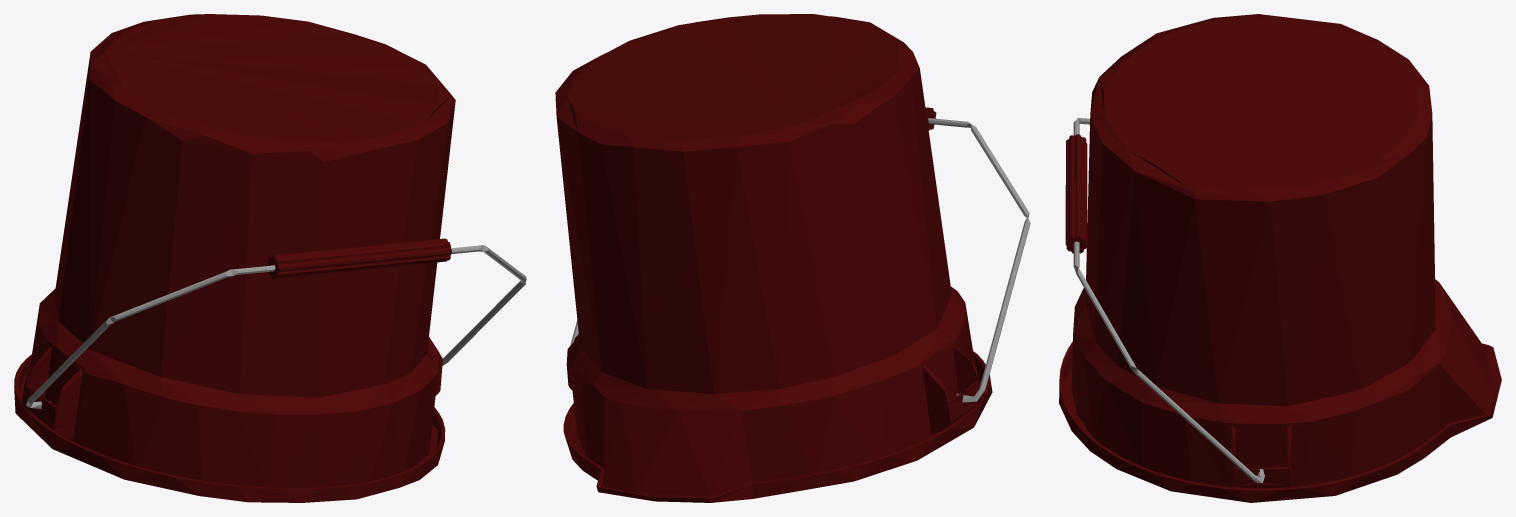
The model's file is bucket.glb.
The picture shows the model from 3 angles, left to right: view 1: azimuth 30°, elevation 25°; view 2: azimuth 150°, elevation 25°; view 3: azimuth 270°, elevation 25°; orthographic projection. The views are drawn at different scales.
Parts seen in each view (by area): view 1: geometry_0; view 2: geometry_0; view 3: geometry_0.
Boxes of the visible parts, x1,y1,x2,y2 form: geometry_0: [14, 14, 526, 502]; geometry_0: [555, 14, 1030, 502]; geometry_0: [1059, 14, 1501, 502].
Size of the model in its own units: 0.9199 by 0.7734 by 0.8701.
